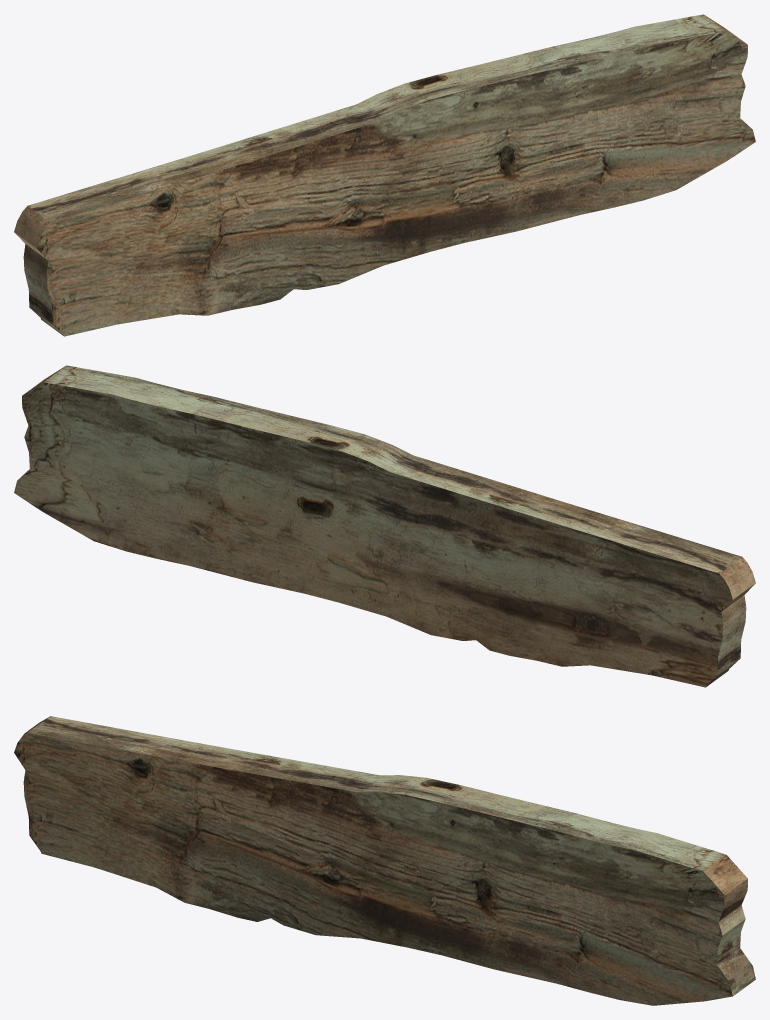
File: skan.fbx
The picture shows the model from 3 angles, top to bottom: view 1: azimuth 30°, elevation 25°; view 2: azimuth 150°, elevation 25°; view 3: azimuth 330°, elevation 25°; orthographic projection.
Visible parts, largest first — view 1: pCube1; view 2: pCube1; view 3: pCube1.
Part boxes in pixels (left/top/right/bottom): pCube1: left=14, top=14, right=755, bottom=336; pCube1: left=14, top=365, right=755, bottom=687; pCube1: left=14, top=716, right=755, bottom=1005.
Size of the model in its own units: 858 by 189 by 47.71.
